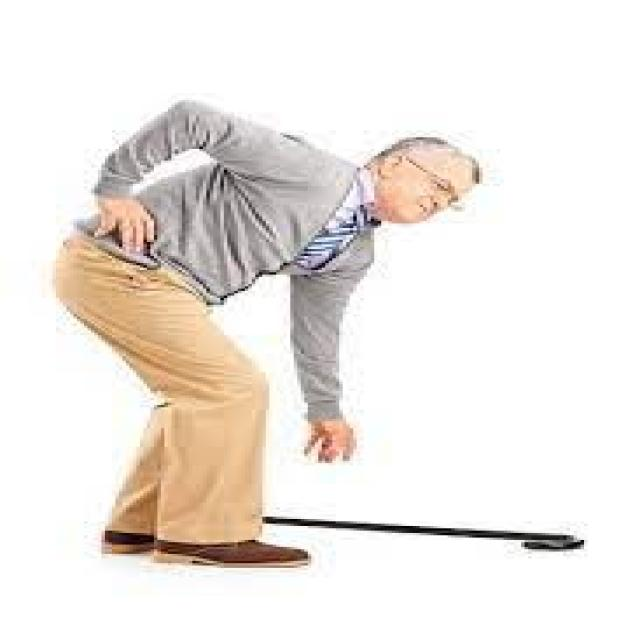idoso em pe: (26, 89, 462, 565)
